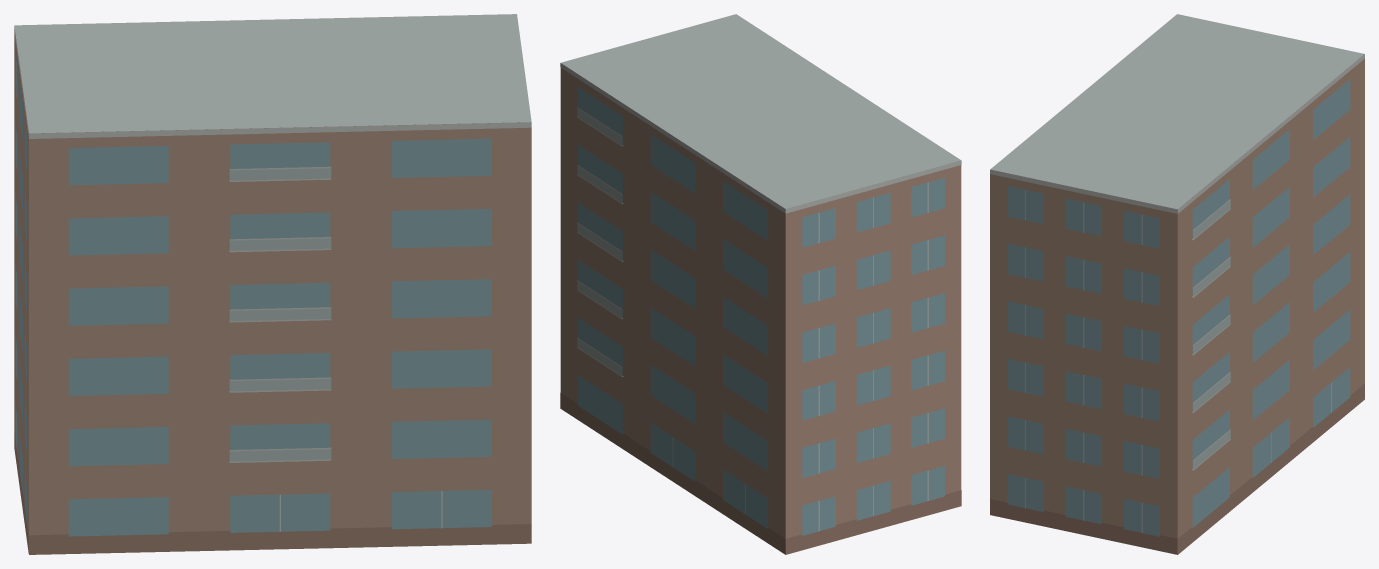
File: survey-upis-33024211.glb
3 renders of one model, left to right at view 1: azimuth 30°, elevation 25°; view 2: azimuth 150°, elevation 25°; view 3: azimuth 270°, elevation 25°, orthographic. The views are drawn at different scales.
Parts seen in each view (by area): view 1: survey-upis-33024211.tmp; view 2: survey-upis-33024211.tmp; view 3: survey-upis-33024211.tmp.
Boxes of the visible parts, x1,y1,x2,y2 form: survey-upis-33024211.tmp: (14, 14, 531, 554); survey-upis-33024211.tmp: (560, 14, 961, 554); survey-upis-33024211.tmp: (990, 14, 1364, 554).
Size of the model in its own units: 22.2 by 18.3 by 18.
